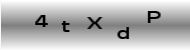4: (34, 14, 49, 28)
P: (146, 10, 164, 25)
X: (86, 15, 103, 30)
d: (115, 25, 131, 40)
t: (59, 20, 71, 33)
